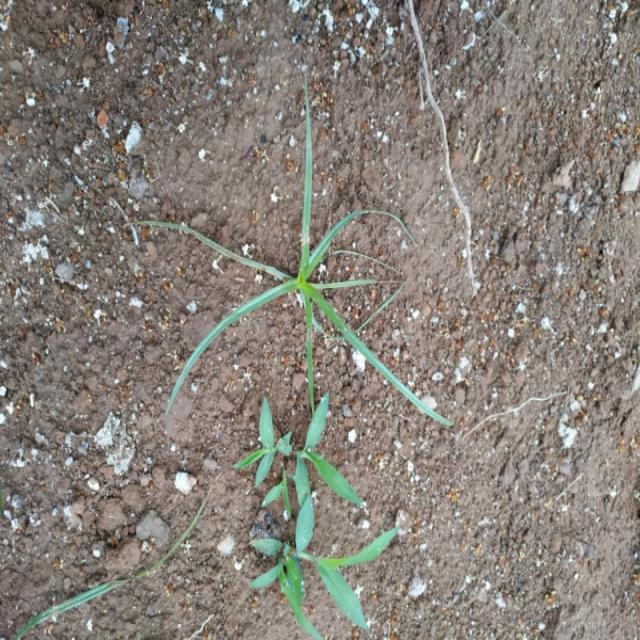sedge: (138, 129, 448, 438)
